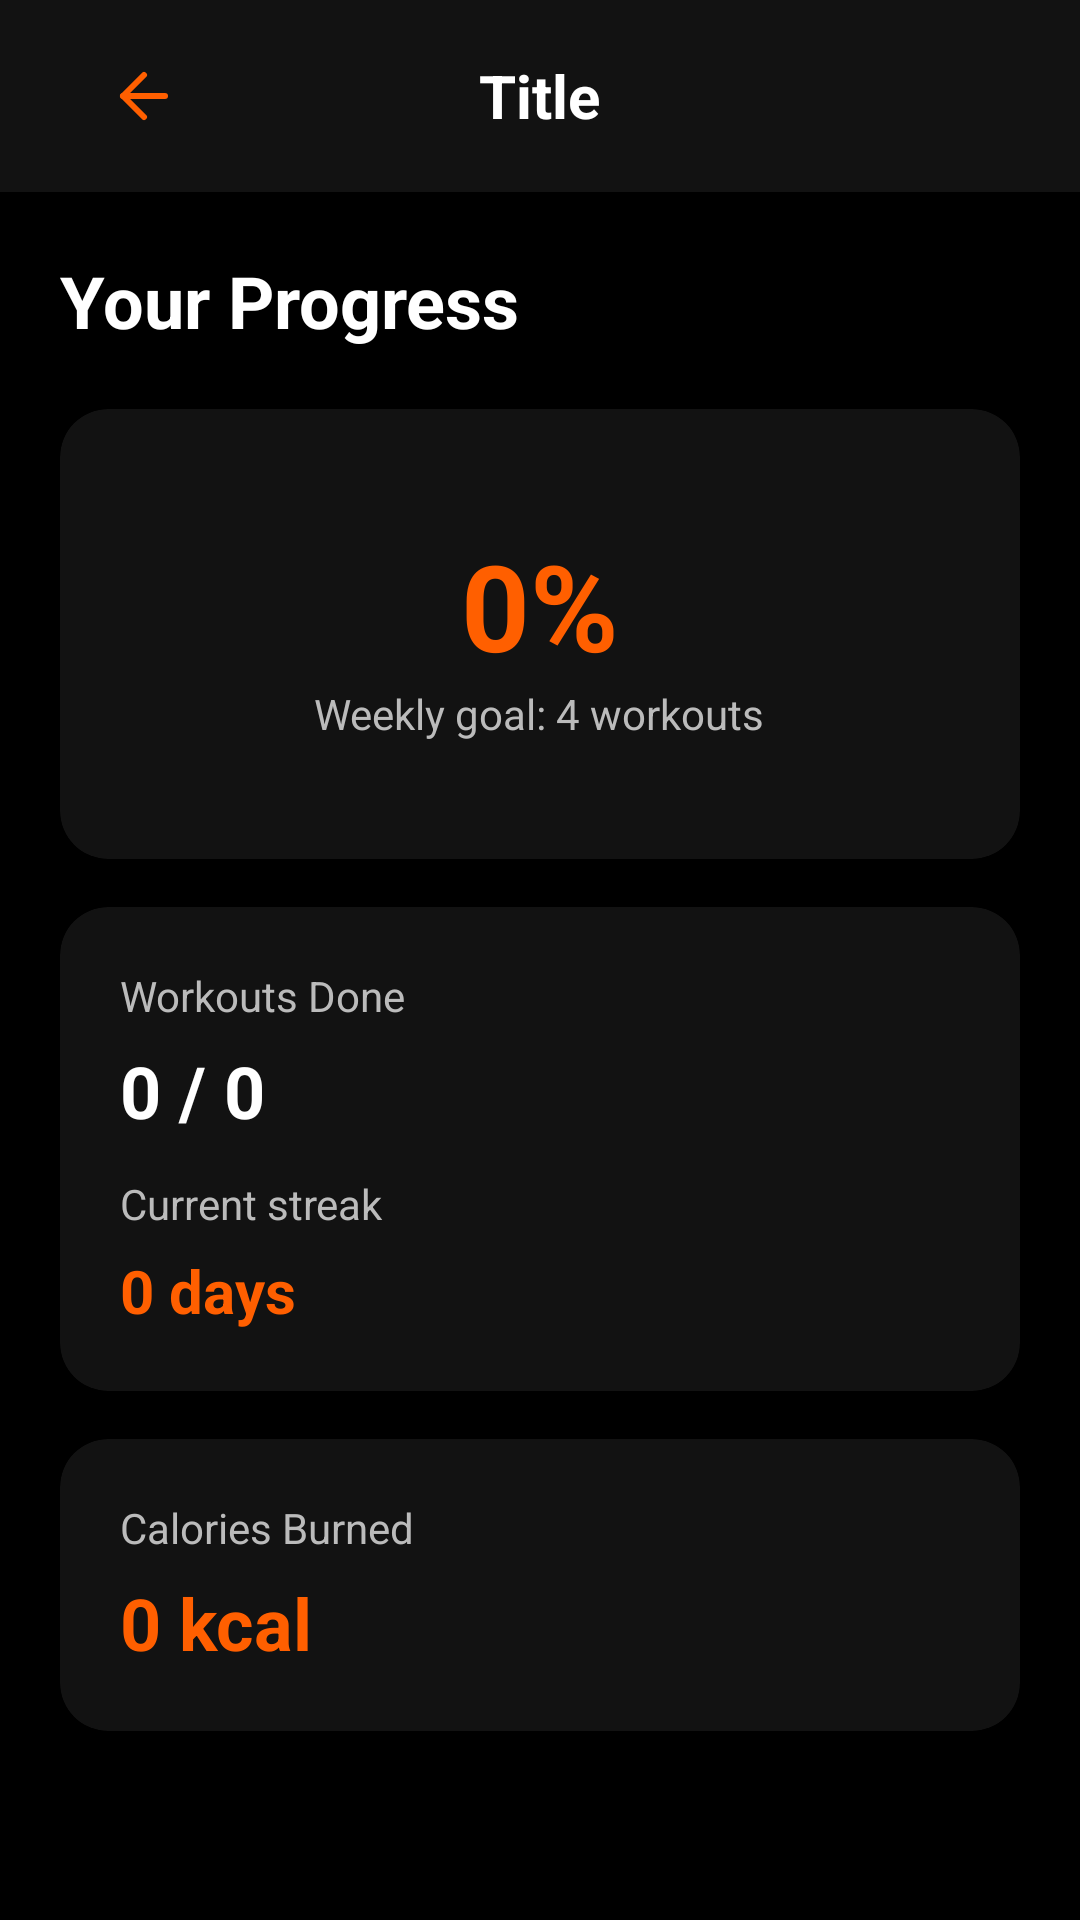

Named icons in this screenshot (1080 x 1920) and their centers, (x,y):
go back: (144,96)
